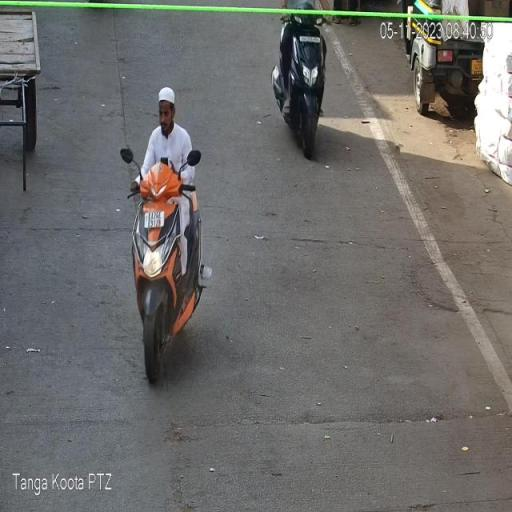using mobile: (156, 148, 170, 172)
